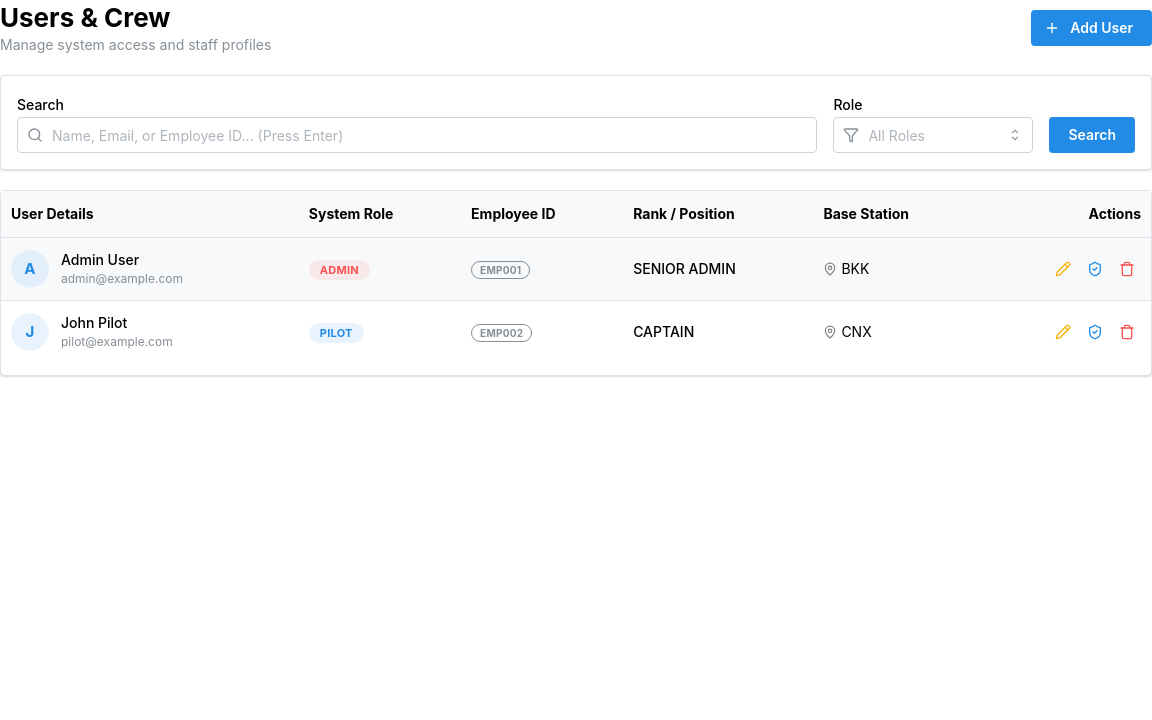
Test: UserManagement Component › opens manage role modal when shield icon is clicked
Click the button named "Manage Role" in the row of "Admin User" at {"x": 1095, "y": 269}, box [1081,255,1109,283]
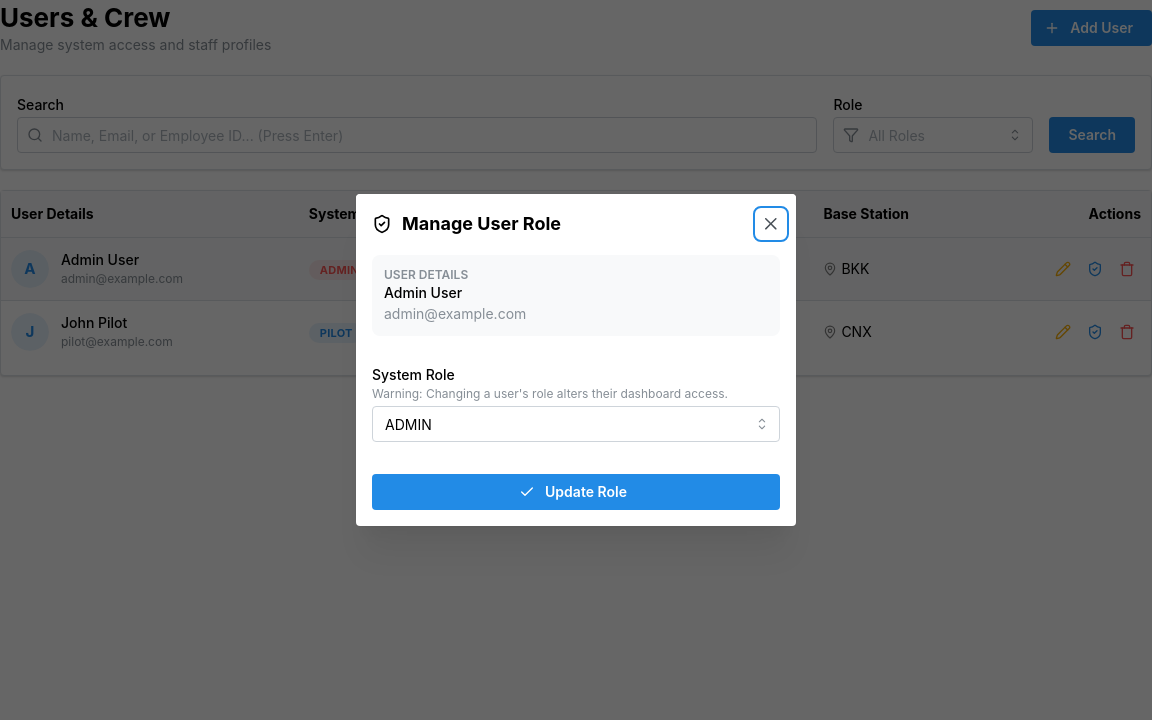
Now the text "Manage User Role" is shown, box [402,210,561,239]
Now the text "admin@example.com" is shown, box [384,305,526,322]
